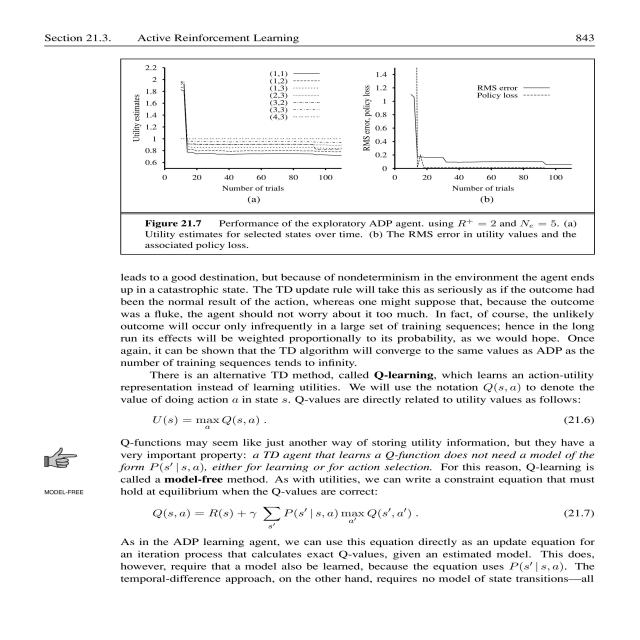diagram: (76, 57, 640, 266)
